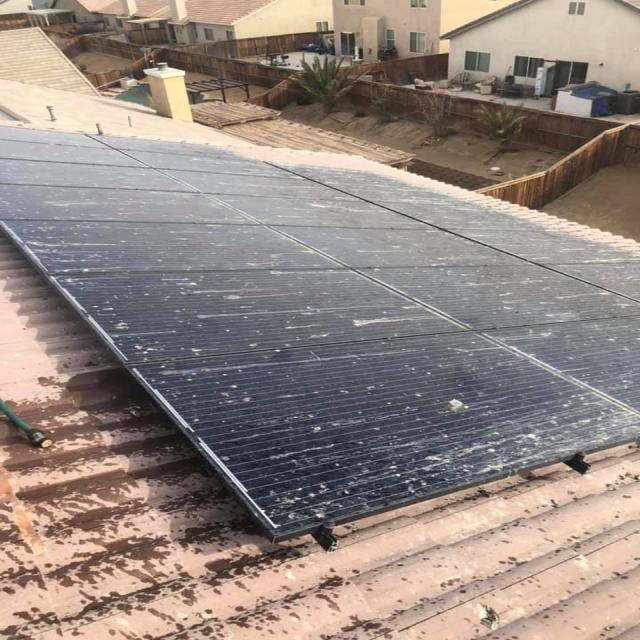dust-solar-panel: (0, 125, 640, 532)
